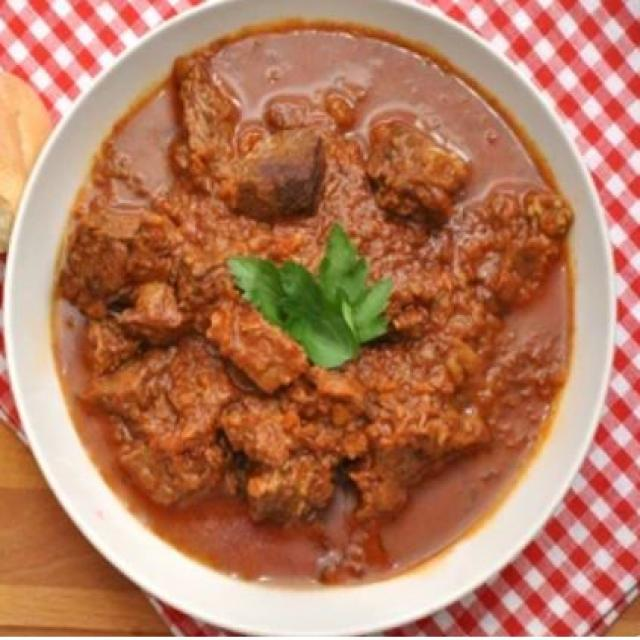kamouniya: (70, 37, 592, 570)
